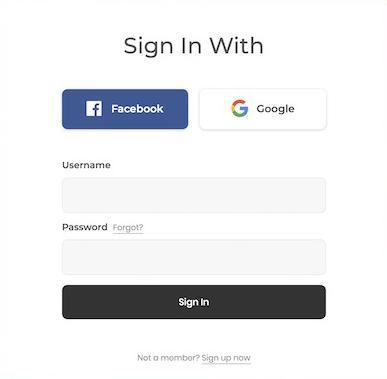button: (63, 286, 327, 322), (200, 90, 328, 131), (64, 90, 189, 131)
input: (62, 239, 327, 278), (62, 180, 326, 213)
label: (60, 220, 147, 235), (57, 160, 117, 172)
